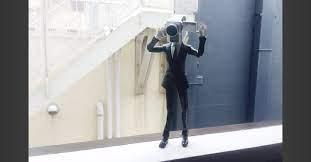no more kid: (167, 11, 202, 51)
